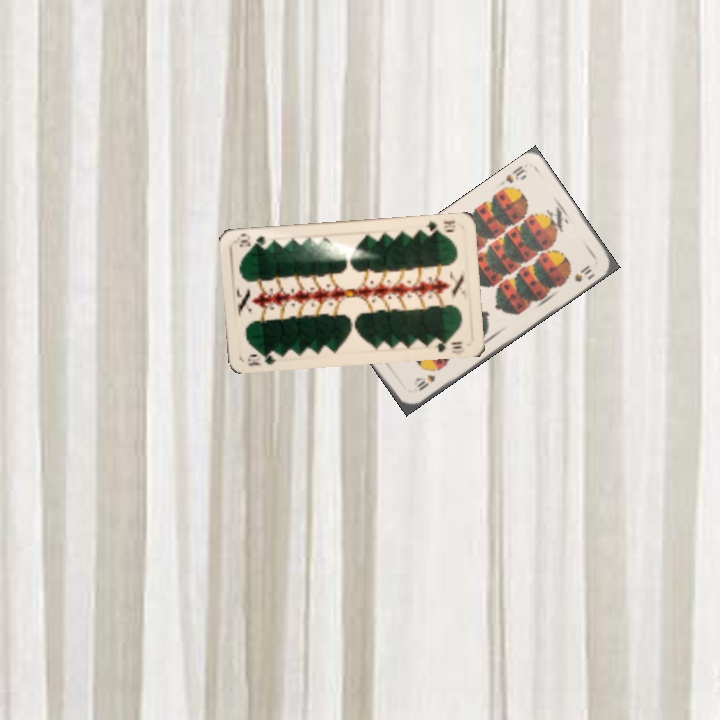G10: (423, 216, 458, 236), (244, 349, 278, 369)
S10: (501, 161, 529, 186), (413, 371, 438, 394)
